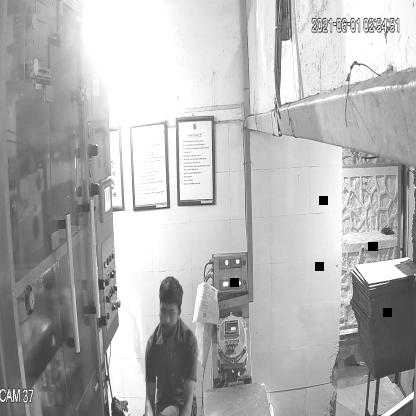no_goggles: (158, 303, 182, 322)
